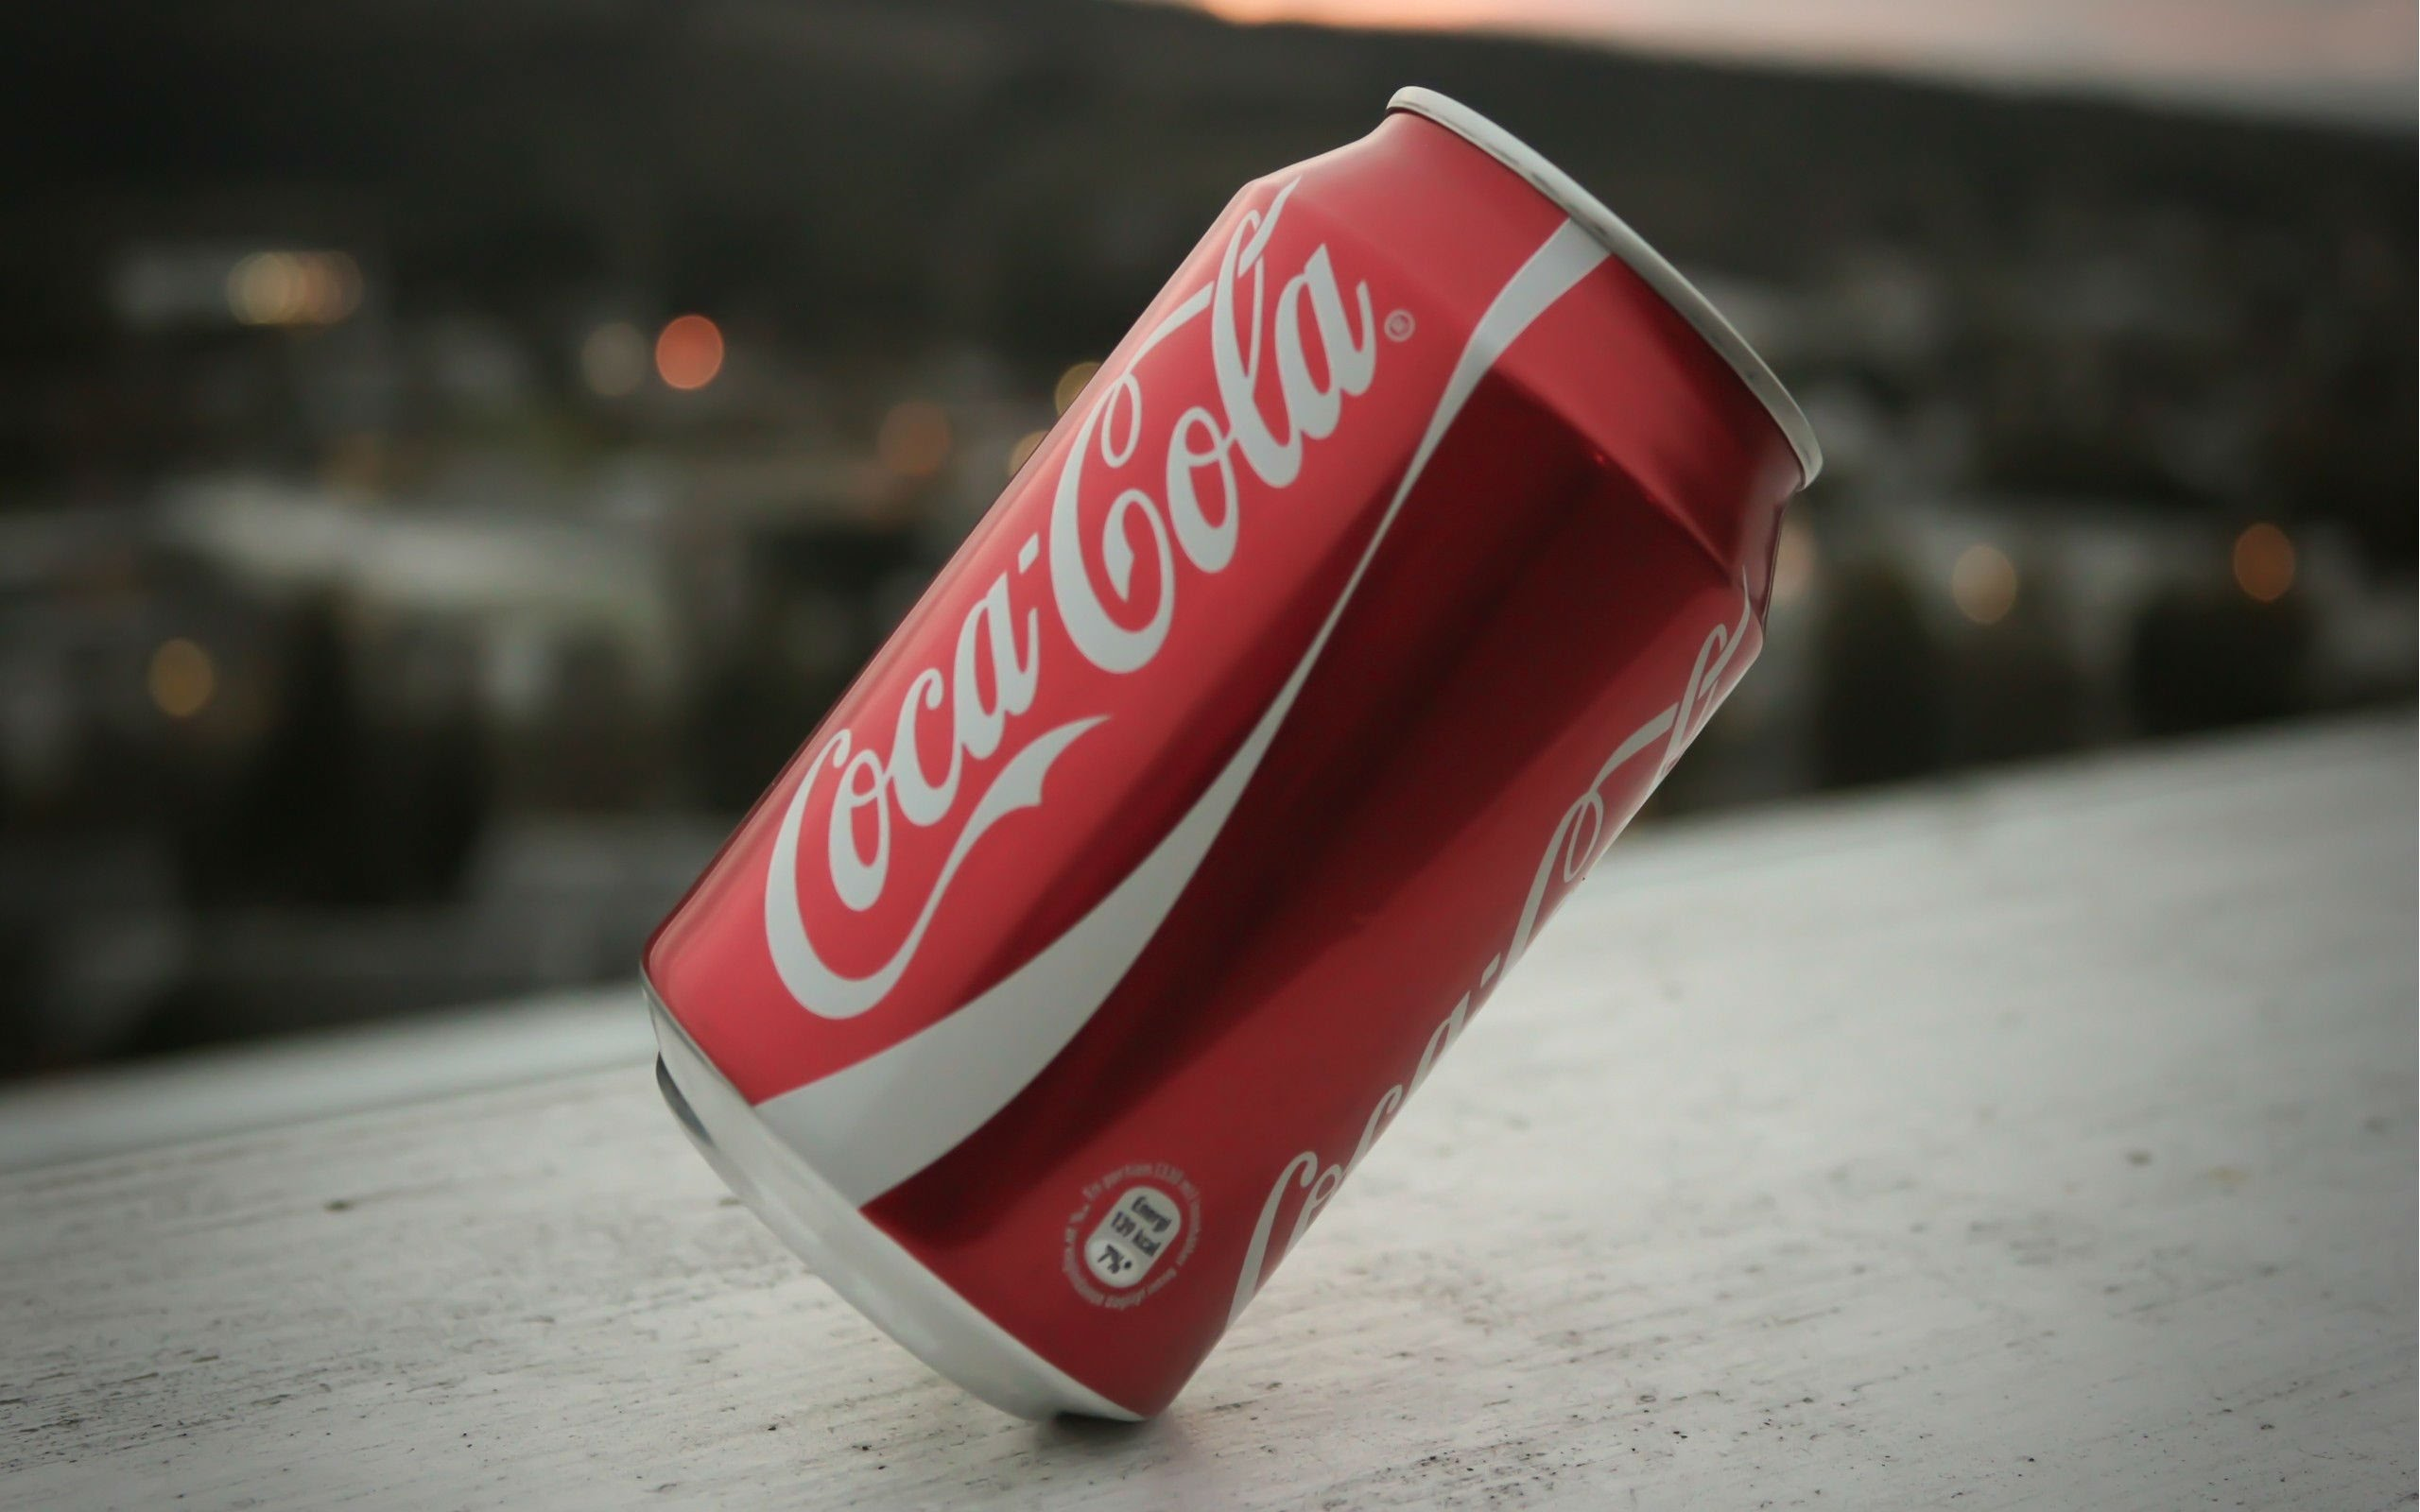coke: (625, 92, 1819, 1437)
